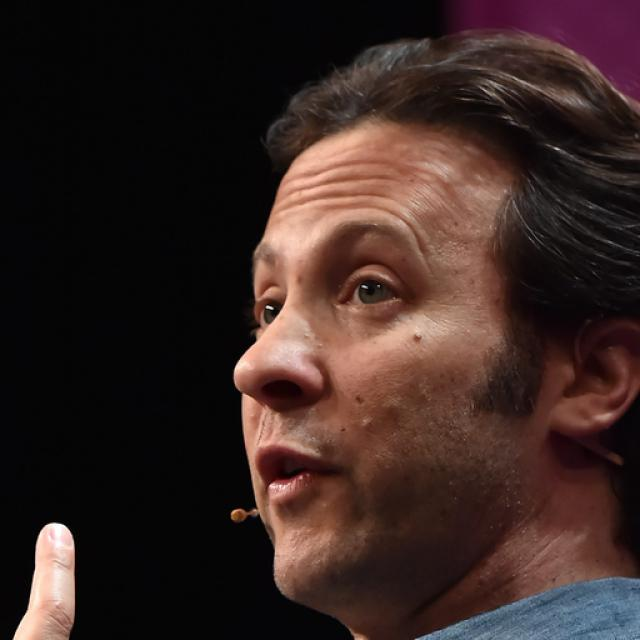Acne: (350, 410, 385, 442), (403, 324, 434, 348), (382, 397, 406, 415)
